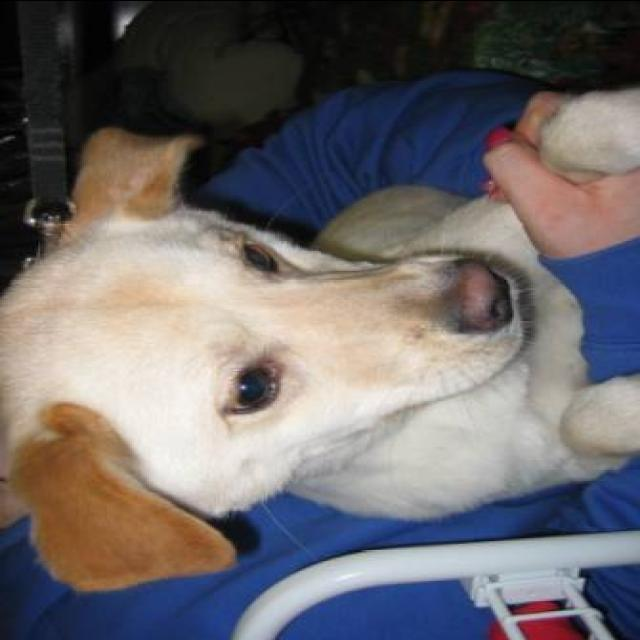dog: (0, 120, 640, 592)
